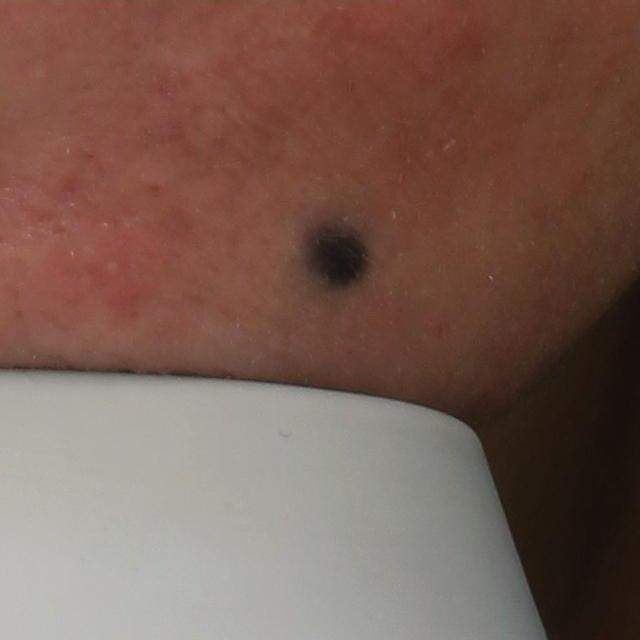nevus: (289, 206, 391, 302)
